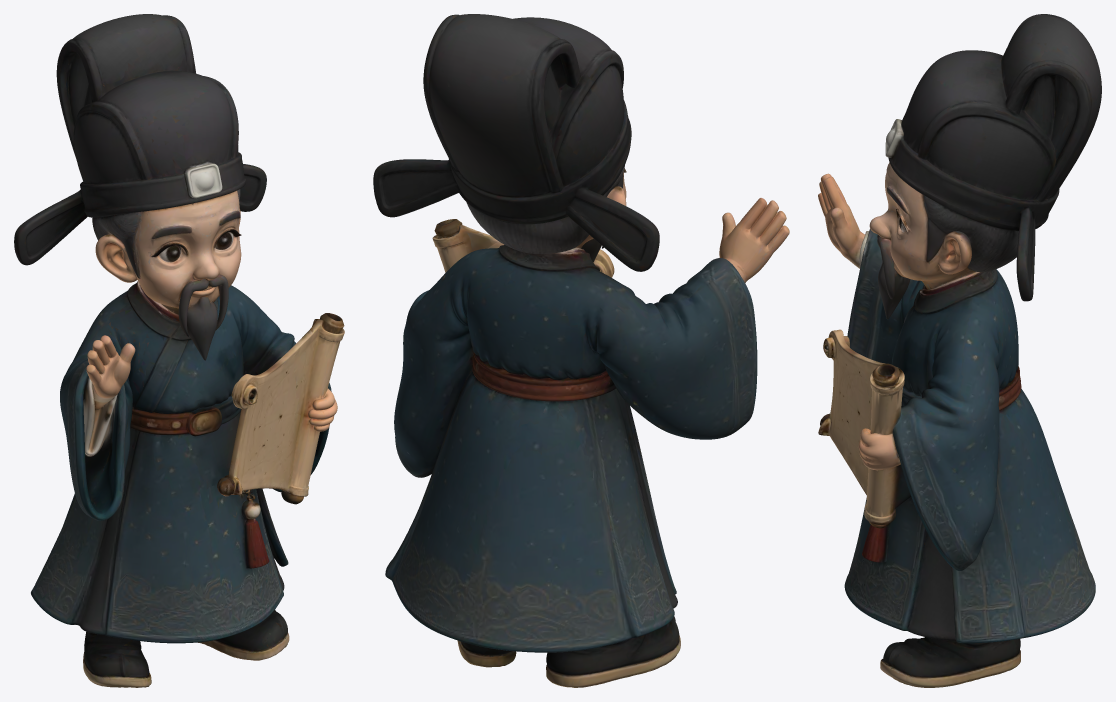
File: summon.glb
3 views of the same model, side by side, from view 1: azimuth 30°, elevation 25°; view 2: azimuth 150°, elevation 25°; view 3: azimuth 270°, elevation 25° (orthographic). The views are drawn at different scales.
Parts seen in each view (by area): view 1: node_0; view 2: node_0; view 3: node_0.
Part boxes in pixels (left/top/right/bottom): node_0: left=14, top=14, right=344, bottom=687; node_0: left=373, top=14, right=789, bottom=687; node_0: left=818, top=14, right=1101, bottom=687.
Bounding box in the file's own units: 0.576 × 1.14 × 0.4779.
Materials: 1 (1 with a texture image).
